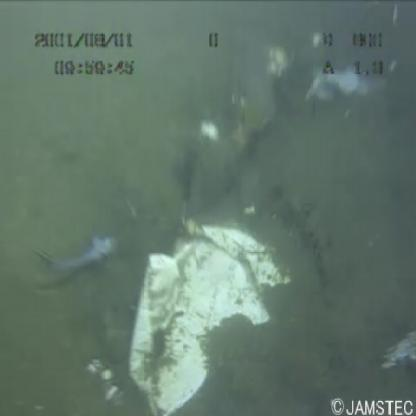Bio: (27, 233, 131, 286), (182, 209, 205, 240)
Rác: (121, 222, 299, 416)
